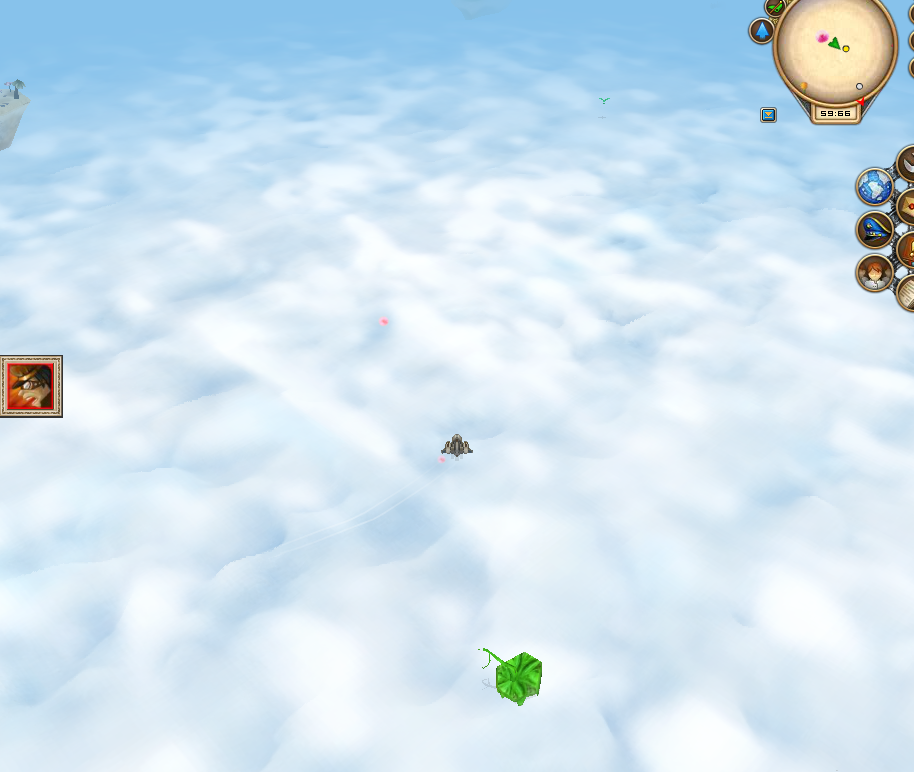dandelion-empty: (476, 638, 549, 708)
fluff: (375, 314, 392, 328)
